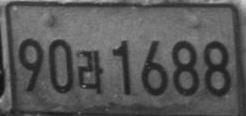0: (47, 38, 74, 94)
1: (110, 40, 135, 94)
6: (140, 40, 169, 96)
8: (171, 39, 201, 97), (202, 40, 232, 97)
9: (17, 37, 44, 93)
라: (76, 50, 104, 93)
